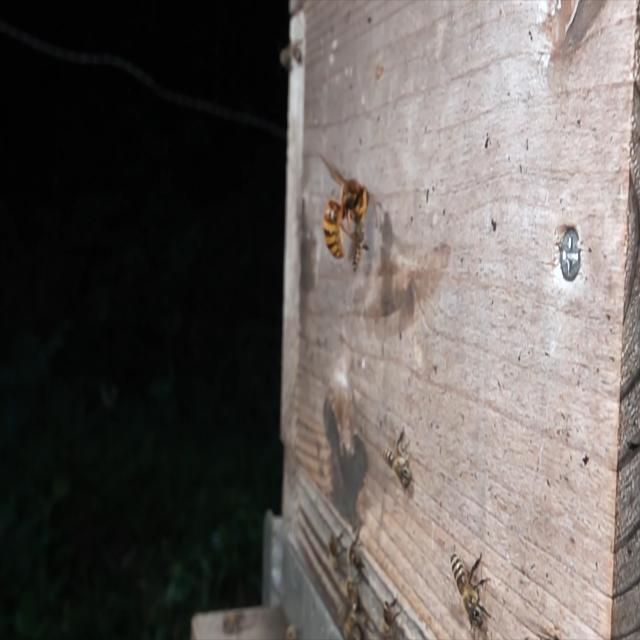Bees: (450, 550, 492, 631), (381, 425, 414, 489), (351, 233, 368, 274)
Hornets: (321, 163, 368, 261)
